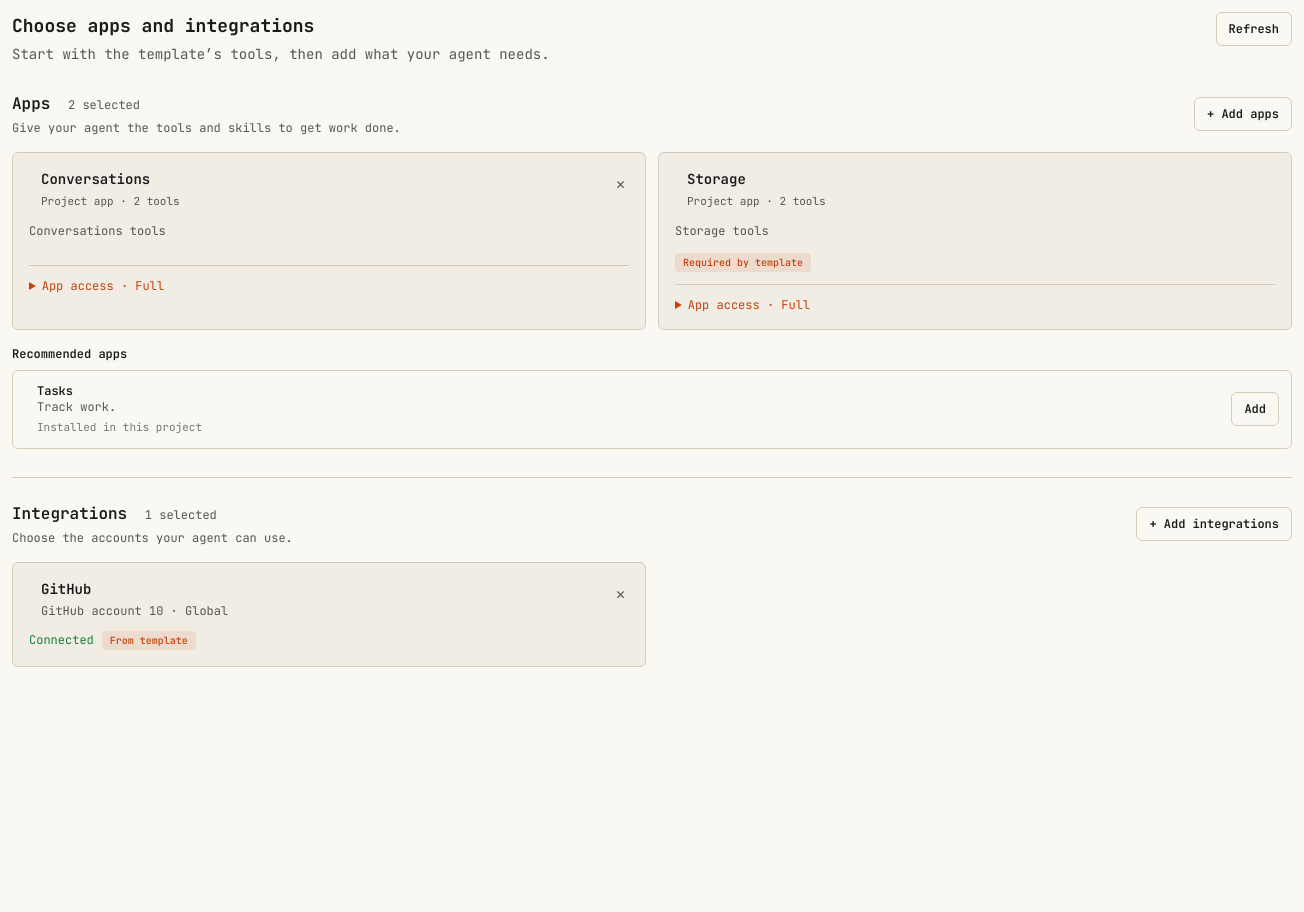
keeps app access controls available on template-required selections
Click the heading "App access · Full" below "Required by template".
click(749, 305)  # box [688,297,810,313]
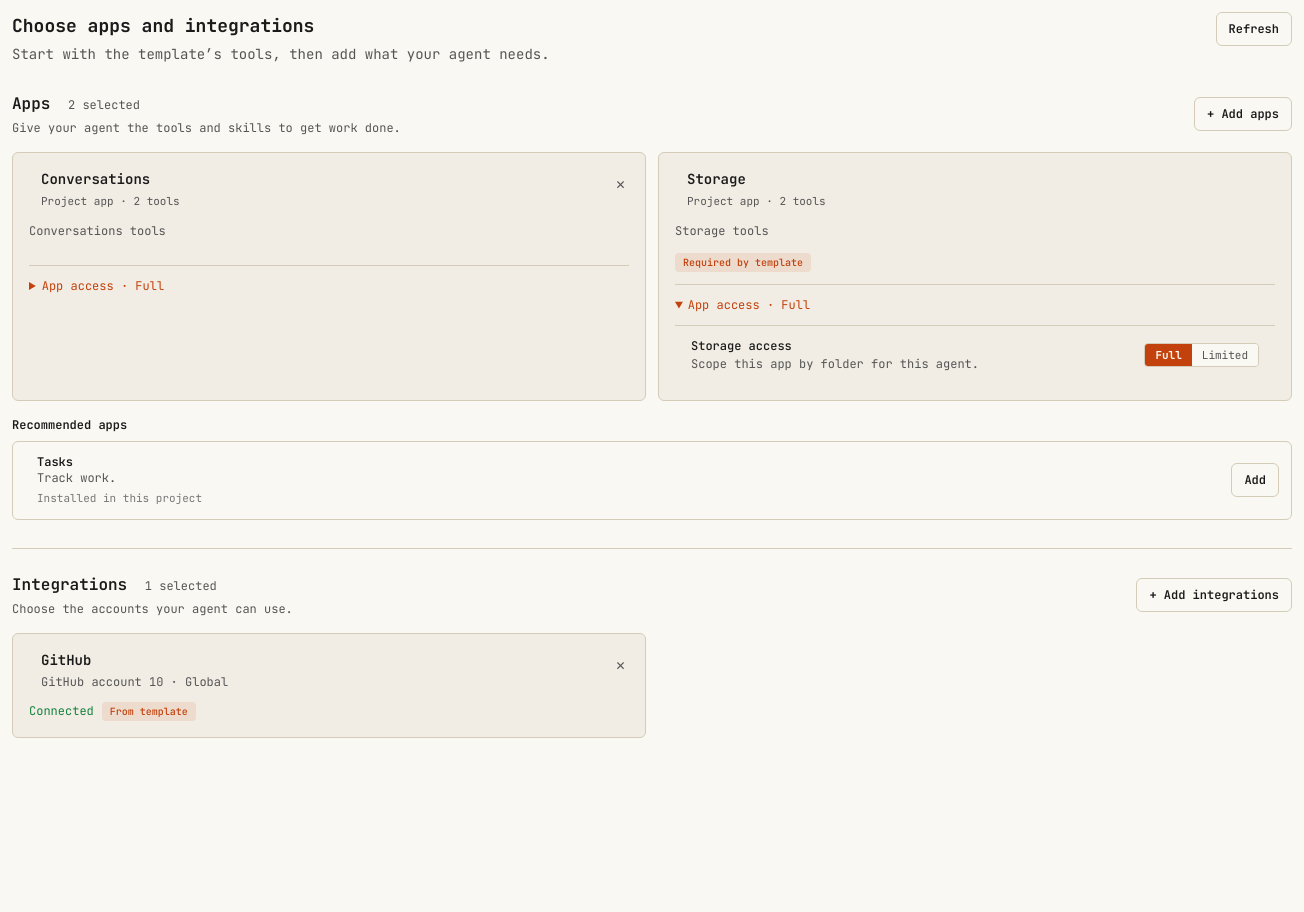
Click the button "limited".
click(1225, 355)  # box [1192,344,1258,366]
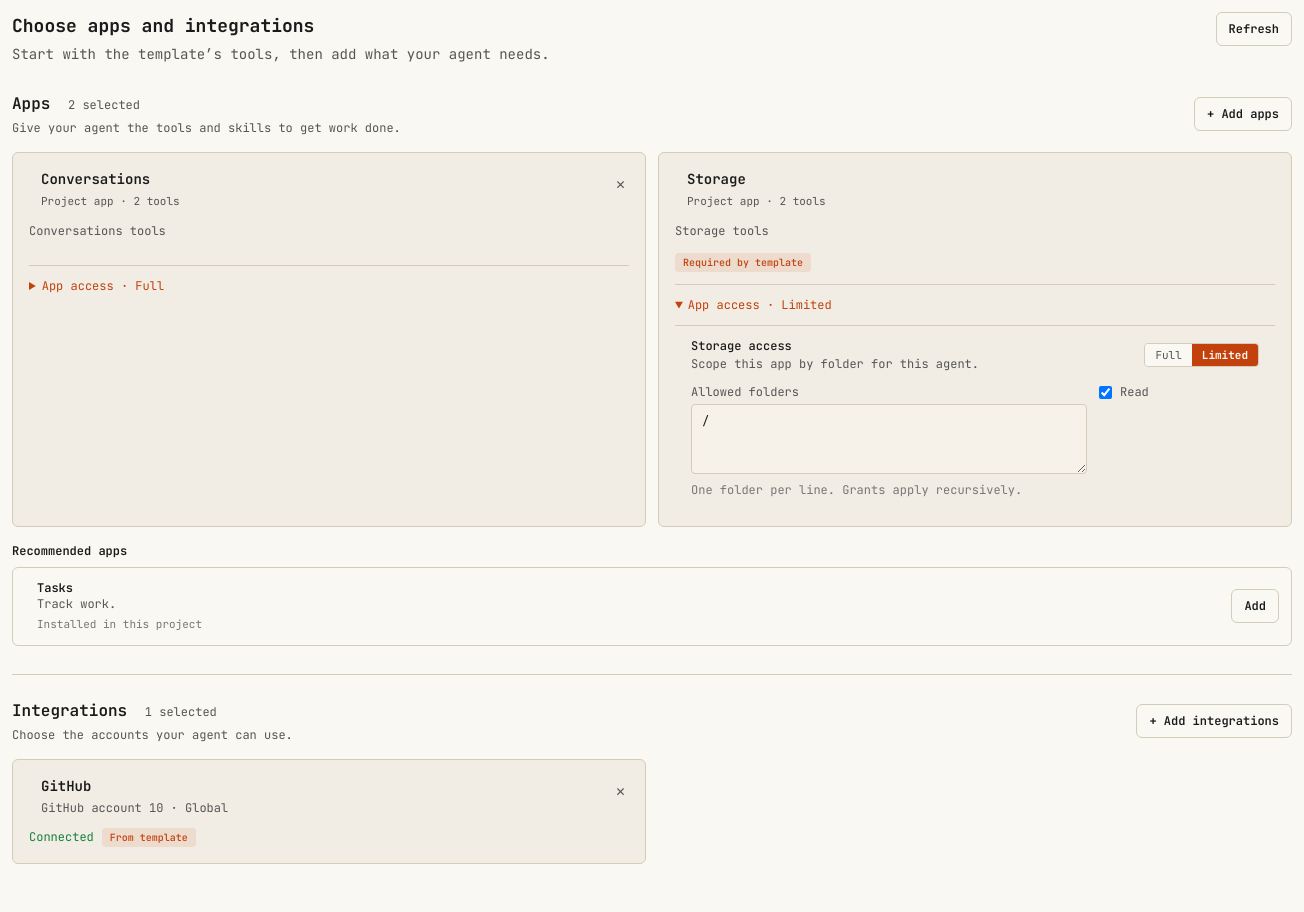
Check: the heading "App access · Limited" is shown, box [688,297,832,313]
Check: the text box labelled "Allowed folders" is shown, box [691,404,1087,474]
